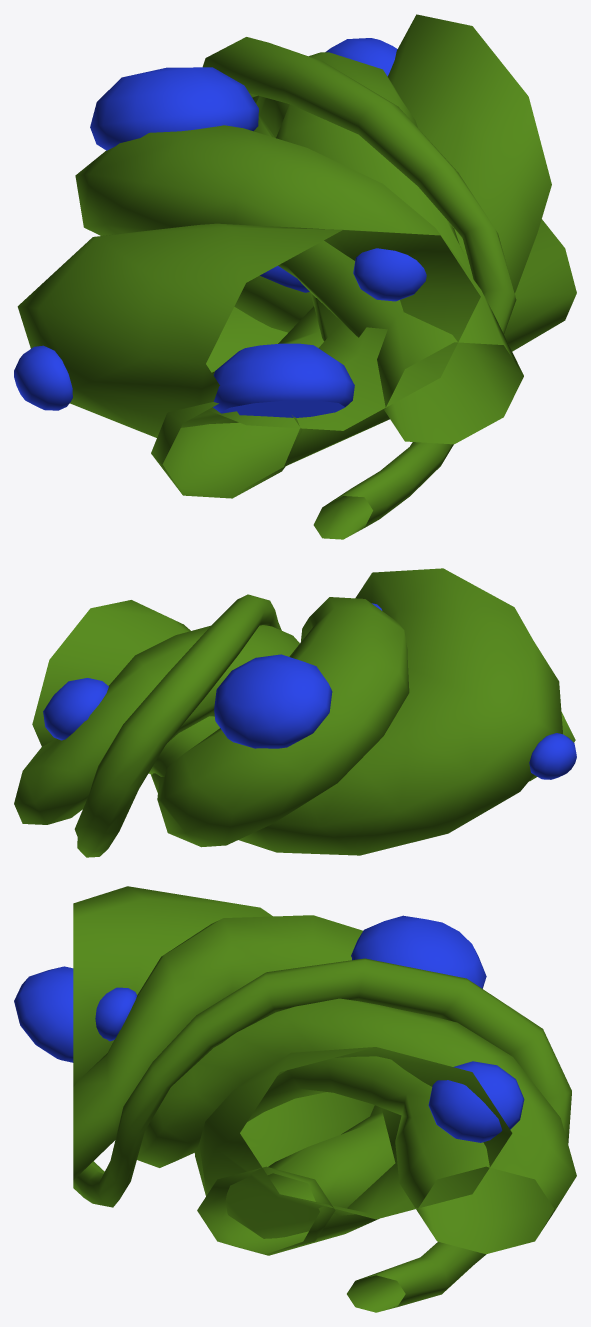
3 renders of one model, top to bottom at view 1: azimuth 30°, elevation 25°; view 2: azimuth 150°, elevation 25°; view 3: azimuth 270°, elevation 25°, orthographic. The views are drawn at different scales.
Visible parts, largest first — view 1: root_water_corner; view 2: root_water_corner; view 3: root_water_corner.
Boxes of the visible parts, x1,y1,x2,y2 form: root_water_corner: (14,14,576,539); root_water_corner: (14,568,576,857); root_water_corner: (14,886,576,1312).
Bounding box in the file's own units: 90.56 × 50.99 × 92.93.
